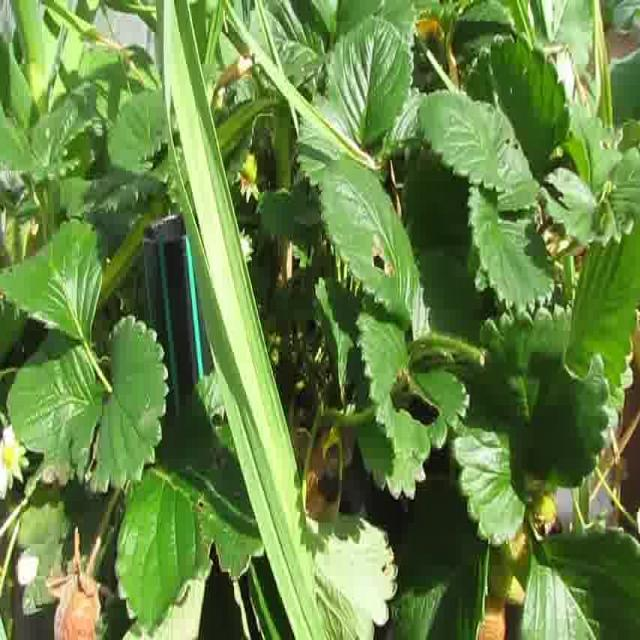Moho gris: (50, 563, 109, 640)
